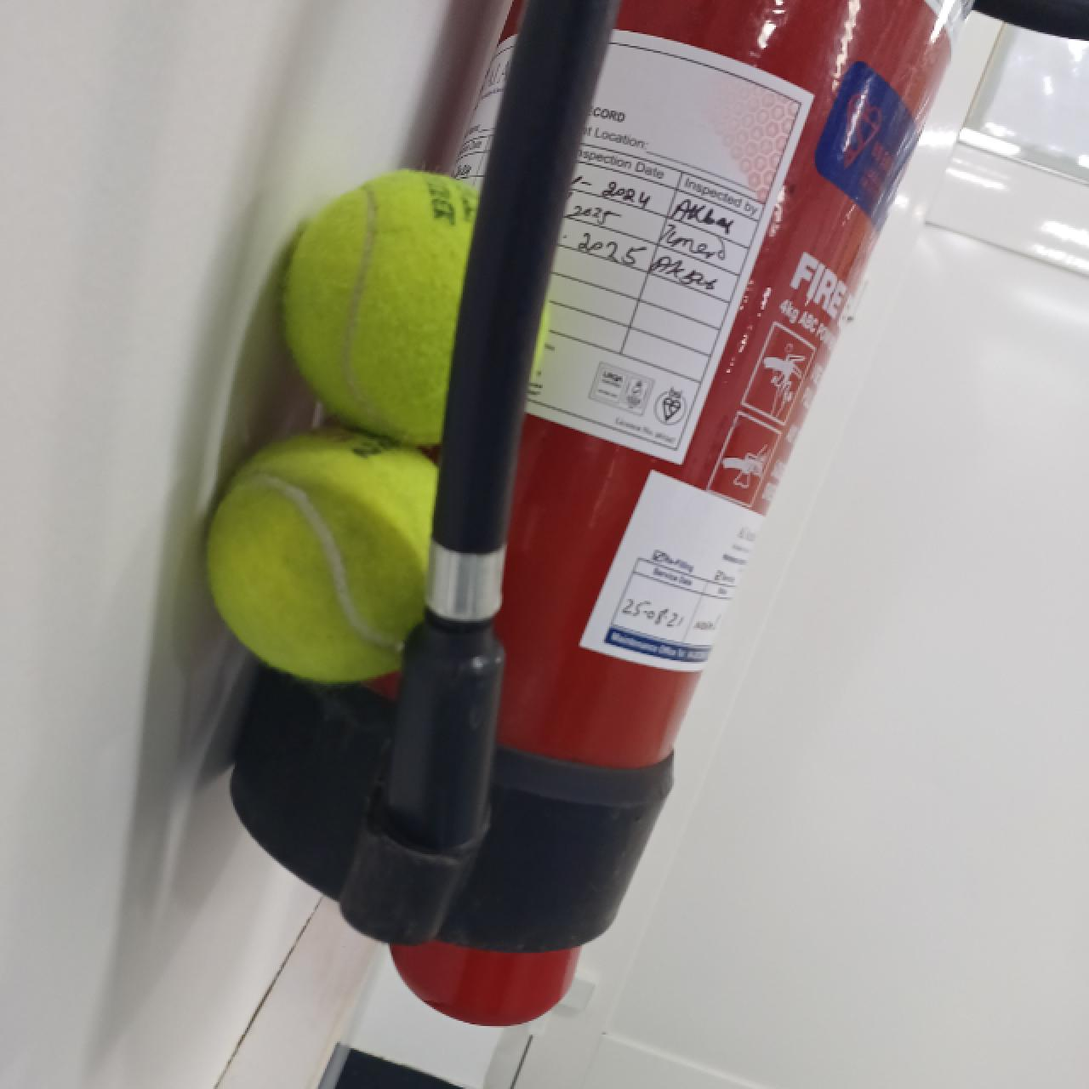tennis-ball: (282, 167, 552, 442), (209, 422, 473, 688)
